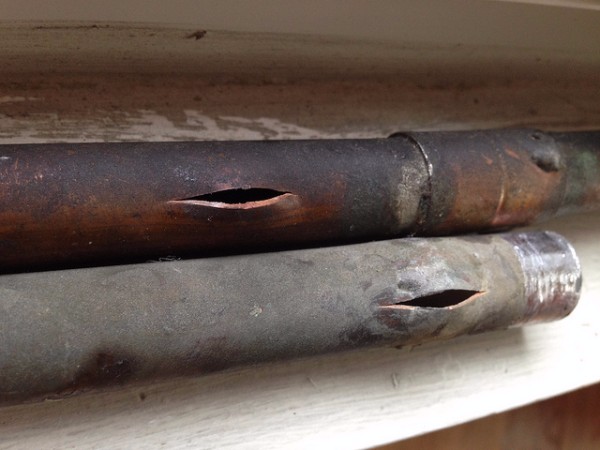rupture: (167, 181, 298, 215), (375, 284, 493, 318)
